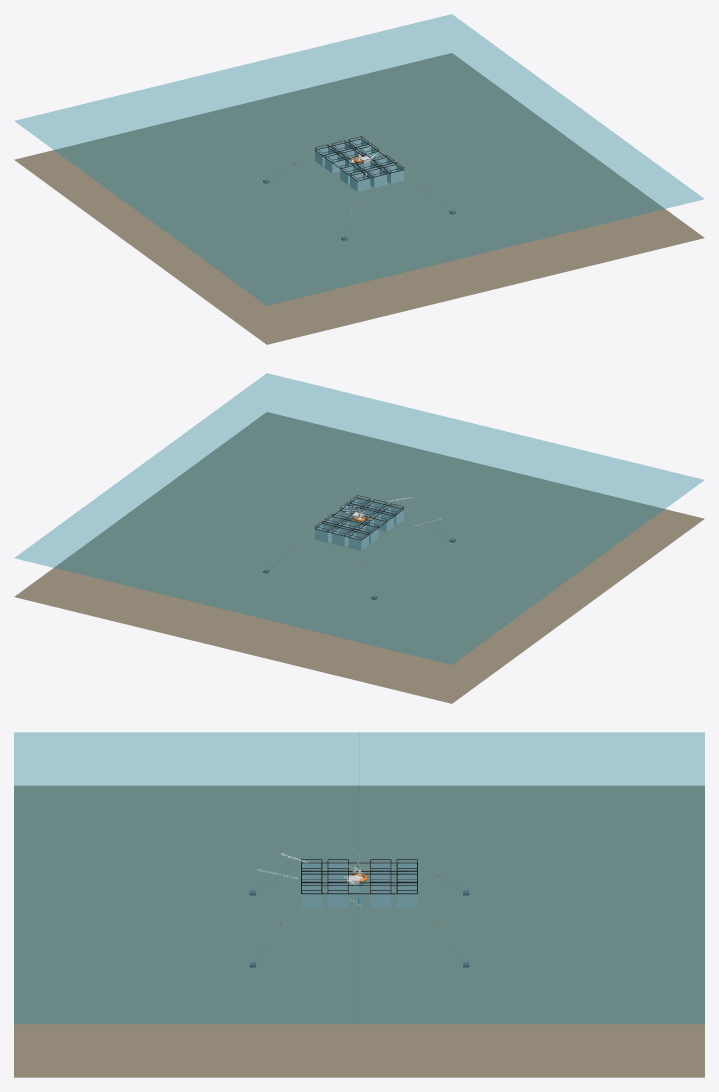
File: kja-3d.glb
3 renders of one model, top to bottom at view 1: azimuth 30°, elevation 25°; view 2: azimuth 150°, elevation 25°; view 3: azimuth 270°, elevation 25°, orthographic. The views are drawn at different scales.
Parts seen in each view (by area): view 1: permukaan_laut, dasar_laut; view 2: permukaan_laut, dasar_laut; view 3: permukaan_laut, dasar_laut.
Boxes of the visible parts, <box> form: permukaan_laut: <box>15,14,703,305</box>; dasar_laut: <box>14,53,704,344</box>; permukaan_laut: <box>15,373,703,664</box>; dasar_laut: <box>14,412,704,703</box>; permukaan_laut: <box>14,732,704,1024</box>; dasar_laut: <box>14,785,704,1077</box>.
Size of the model in its own units: 170 by 20.92 by 170.
